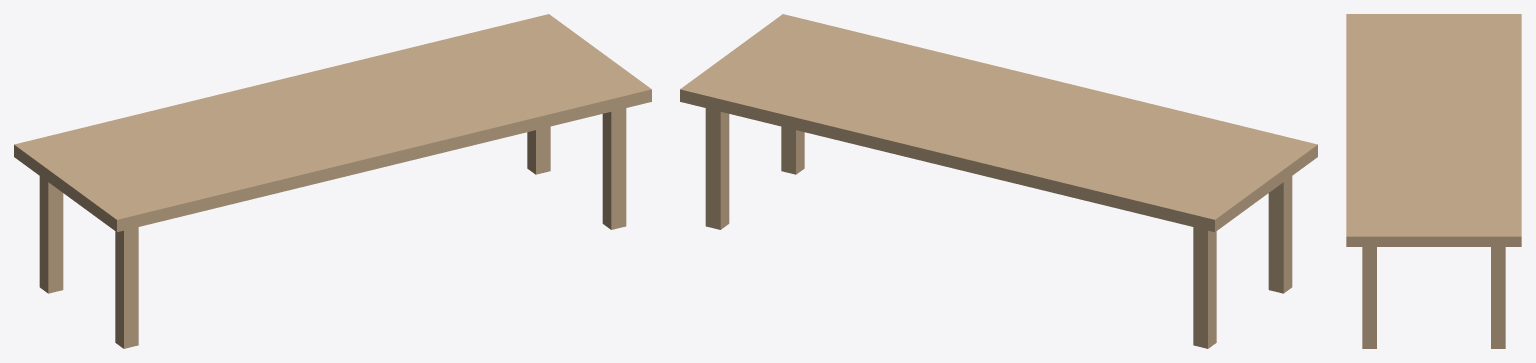
Rendered from apple_table_long.glb.
3 renders of one model, left to right at view 1: azimuth 30°, elevation 25°; view 2: azimuth 150°, elevation 25°; view 3: azimuth 270°, elevation 25°, orthographic. The views are drawn at different scales.
Parts seen in each view (by area): view 1: apple_table_long; view 2: apple_table_long; view 3: apple_table_long.
Part boxes in pixels (box(x1,y1,x2,y2)): apple_table_long: box(14, 14, 651, 348); apple_table_long: box(680, 14, 1317, 348); apple_table_long: box(1346, 14, 1521, 348).
Size of the model in its own units: 3.6 by 0.9 by 1.2.
